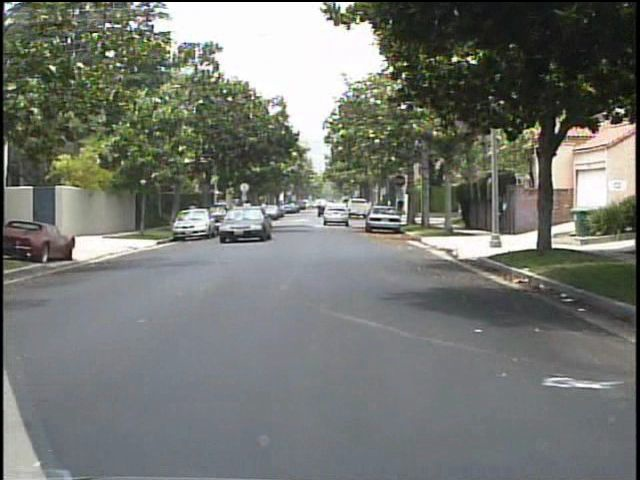person: (494, 192, 513, 237), (186, 199, 202, 232)
